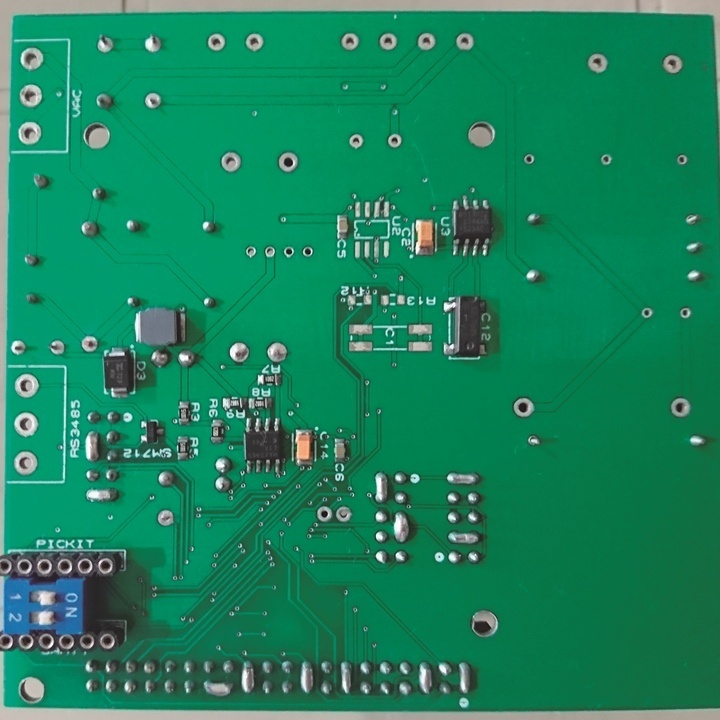F: (17, 46, 50, 73), (12, 372, 41, 401), (16, 83, 46, 111), (10, 449, 39, 476), (13, 121, 45, 145), (11, 411, 39, 437), (263, 339, 290, 363), (226, 338, 250, 364), (661, 50, 684, 77), (587, 51, 610, 77), (511, 395, 536, 418), (278, 150, 300, 173), (668, 397, 691, 418), (221, 152, 242, 175), (338, 31, 361, 52), (94, 33, 116, 54), (207, 32, 229, 53), (333, 504, 353, 527), (78, 335, 99, 355), (143, 33, 163, 54), (244, 32, 264, 53), (415, 31, 435, 51), (455, 31, 474, 52), (9, 338, 28, 358), (379, 31, 397, 52), (144, 90, 163, 109), (47, 339, 67, 357), (314, 505, 333, 523), (156, 508, 174, 526), (524, 432, 541, 449), (347, 132, 364, 149), (683, 209, 699, 227), (386, 134, 403, 149), (281, 244, 296, 258), (262, 244, 276, 258), (244, 245, 259, 258), (301, 244, 314, 259), (522, 154, 536, 166), (640, 307, 652, 320), (599, 154, 612, 166), (676, 152, 687, 166), (679, 308, 691, 320)
P: (390, 507, 412, 544), (444, 469, 481, 489), (201, 677, 236, 698), (371, 470, 389, 506), (418, 659, 434, 698), (298, 658, 313, 698), (241, 658, 256, 698), (446, 529, 483, 545), (339, 660, 353, 698), (84, 429, 99, 464), (85, 488, 119, 503), (458, 659, 471, 695)
